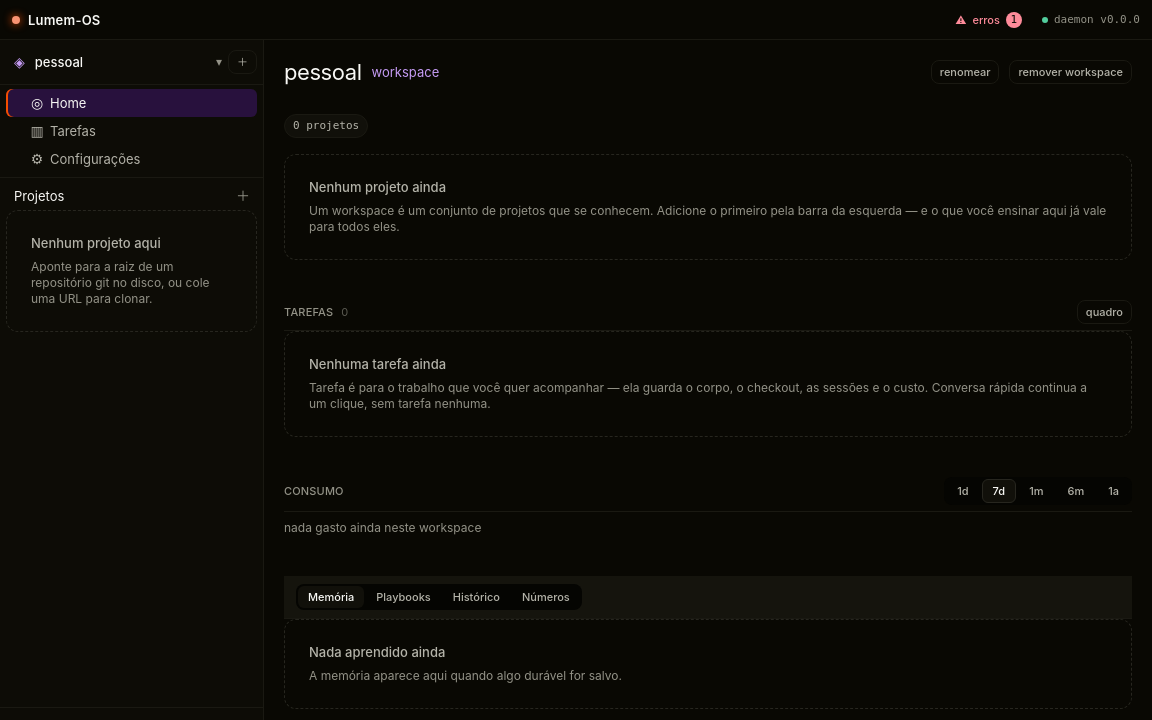
Scenario: add project › keeps the form open after a refusal so the path can be fixed
Click the button named "adicionar projeto" at (243, 196), box [231,184,255,208]
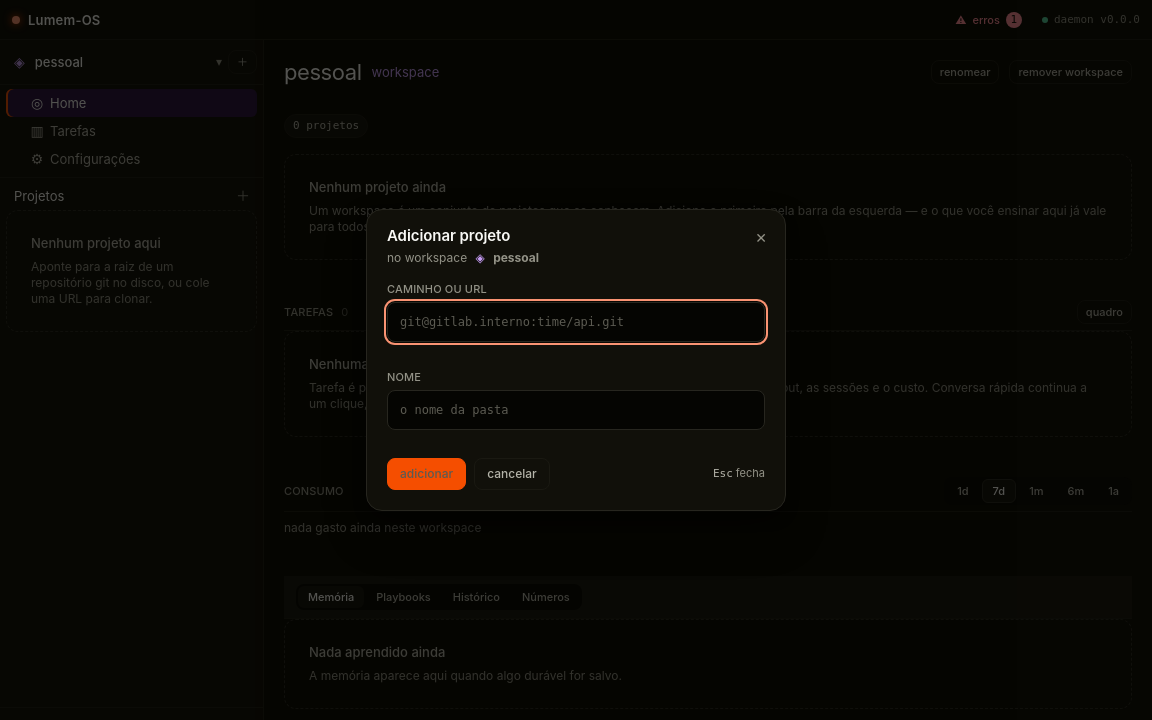
Type "/tmp" into the field labelled "Caminho ou URL" at (576, 322), box [387,302,765,342]
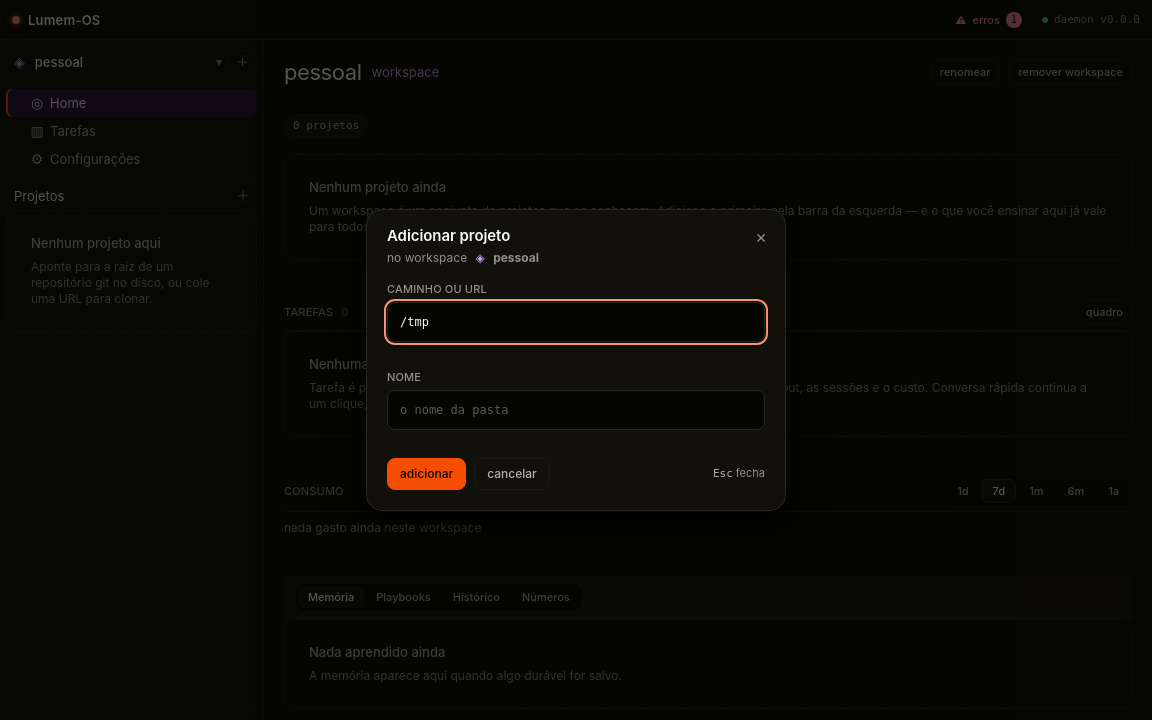
Click the button "adicionar" at (427, 474), box [387,458,466,490]
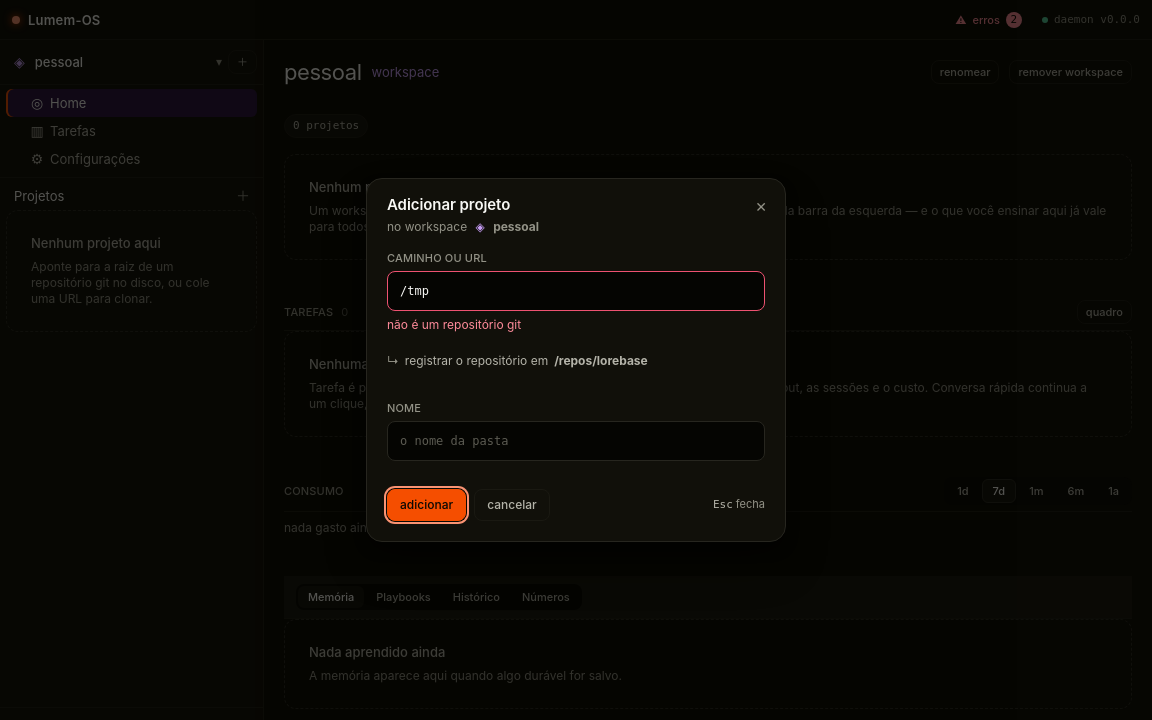
Result: the message "não é um repositório git" is shown at [387,317,521,332]
